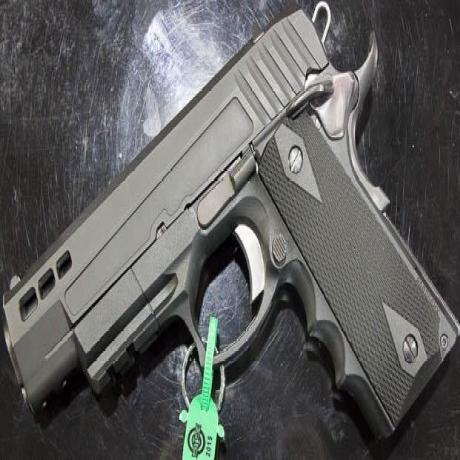weapon: (0, 0, 460, 443)
